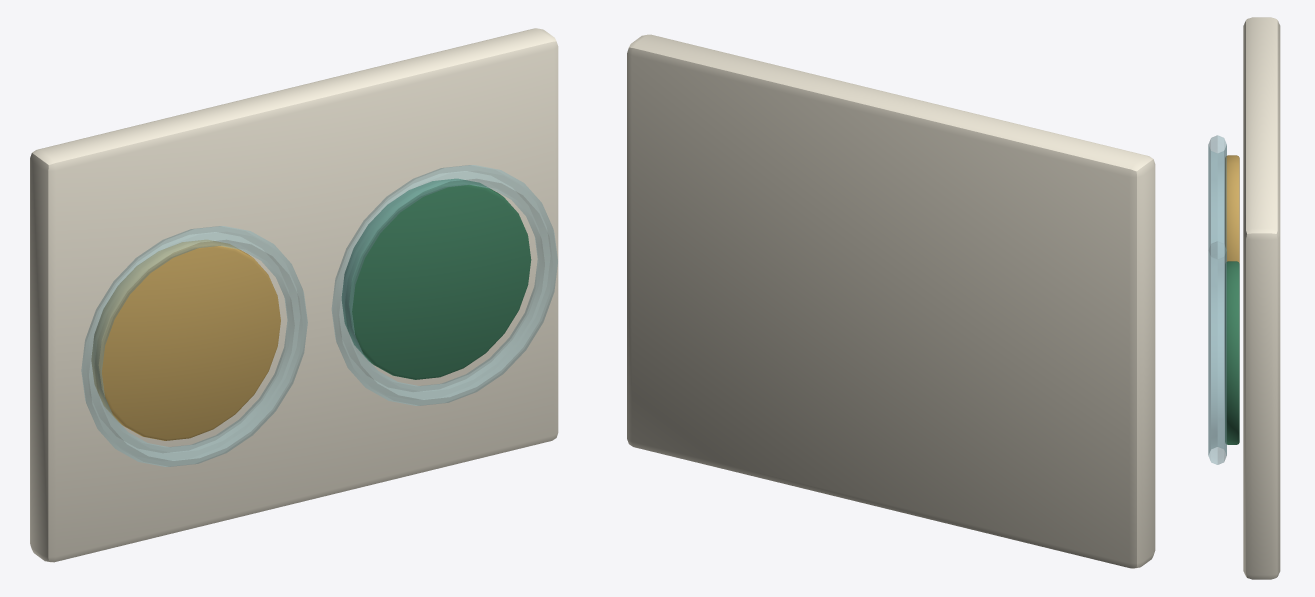
The model's file is checkout_product_marker_blister.glb.
The picture shows the model from 3 angles, left to right: view 1: azimuth 30°, elevation 25°; view 2: azimuth 150°, elevation 25°; view 3: azimuth 270°, elevation 25°; orthographic projection. The views are drawn at different scales.
Visible parts, largest first — view 1: MarkerBackingCard, BallMarker_2, BallMarker_1, MarkerBlister_1, MarkerBlister_2; view 2: MarkerBackingCard; view 3: MarkerBackingCard, MarkerBlister_2, BallMarker_2, MarkerBlister_1, BallMarker_1.
Boxes of the visible parts, x1,y1,x2,y2 form: MarkerBackingCard: (30, 28, 558, 562); BallMarker_2: (341, 178, 531, 379); BallMarker_1: (91, 239, 280, 440); MarkerBlister_1: (81, 226, 307, 466); MarkerBlister_2: (331, 165, 557, 405); MarkerBackingCard: (627, 34, 1155, 568); MarkerBackingCard: (1243, 17, 1280, 579); MarkerBlister_2: (1208, 241, 1226, 464); BallMarker_2: (1225, 261, 1239, 444); MarkerBlister_1: (1208, 135, 1226, 258); BallMarker_1: (1225, 155, 1239, 263).
Bounding box in the file's own units: 0.14 × 0.105 × 0.025.
